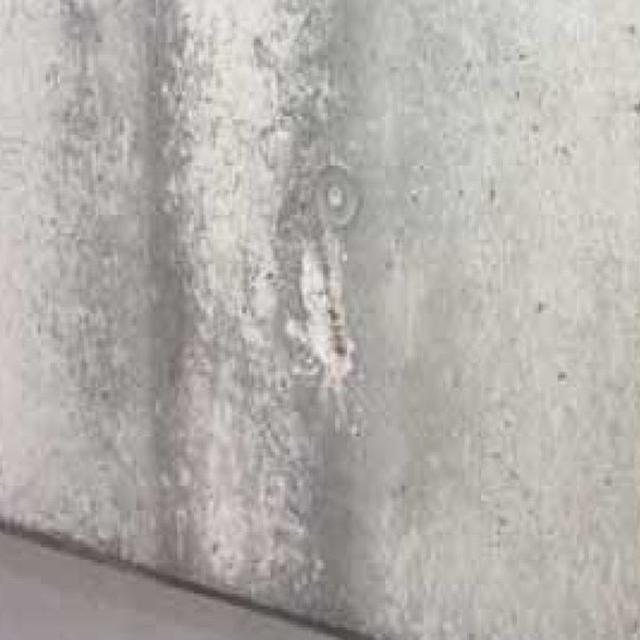spalling: (272, 223, 388, 401)
